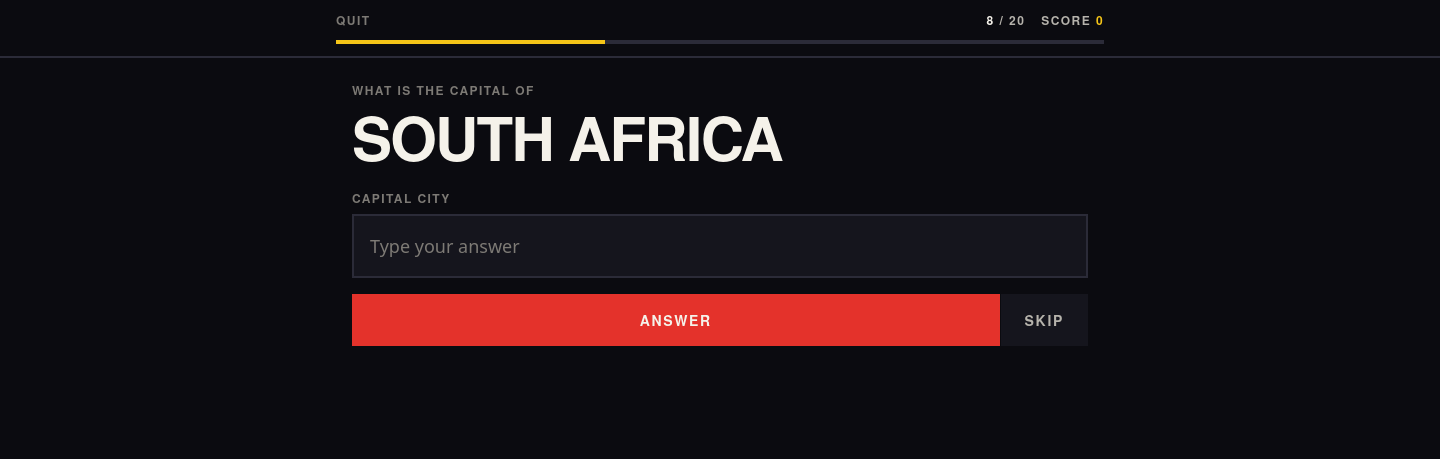
Test: expert difficulty (T2.4) › lists every accepted capital with its note after answering
Type "Pretoria" into the dropdown at [720, 246], box [352, 214, 1088, 278]
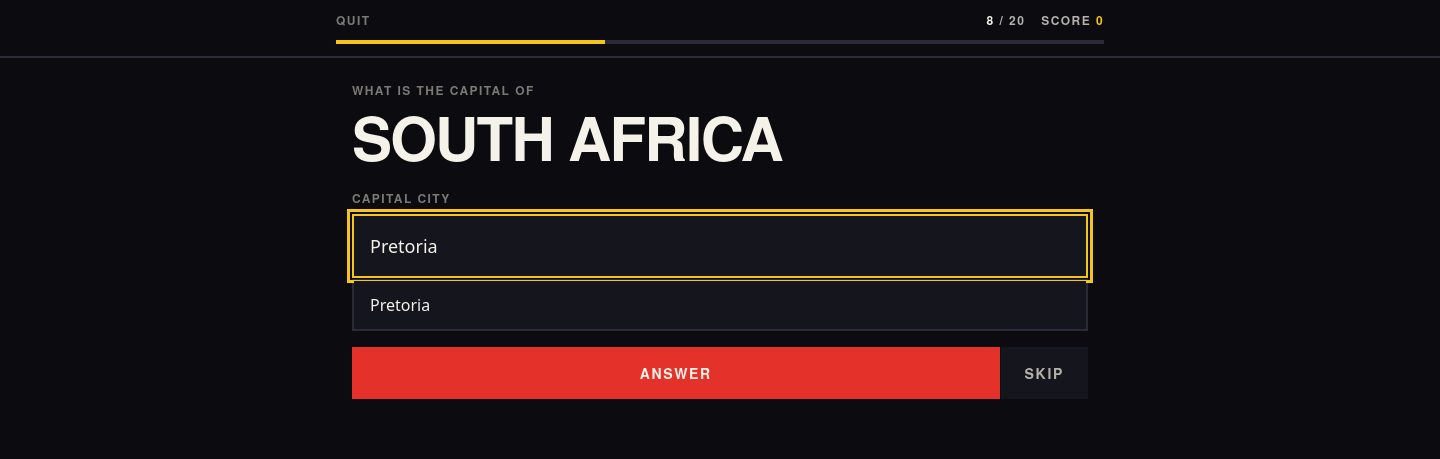
Click the button "Answer" at [676, 373], box [352, 347, 1000, 399]
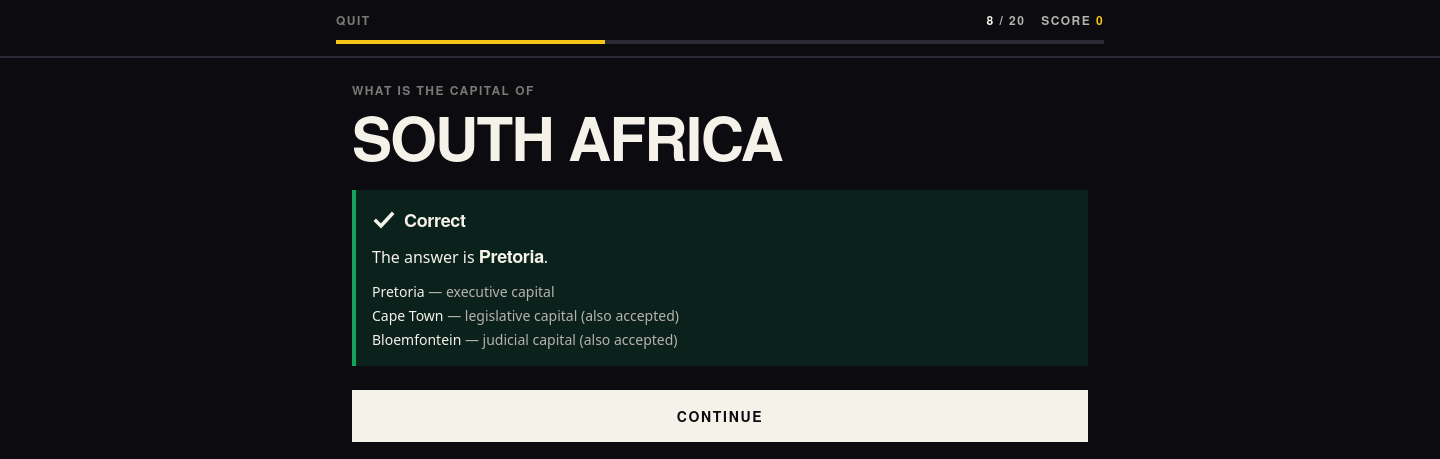
Check: the list item "Pretoria — executive capital" is shown, box [372, 282, 555, 301]
Check: the list item "Cape Town — legislative capital (also accepted)" is shown, box [372, 306, 679, 325]
Check: the list item "Bloemfontein — judicial capital (also accepted)" is shown, box [372, 330, 678, 349]
